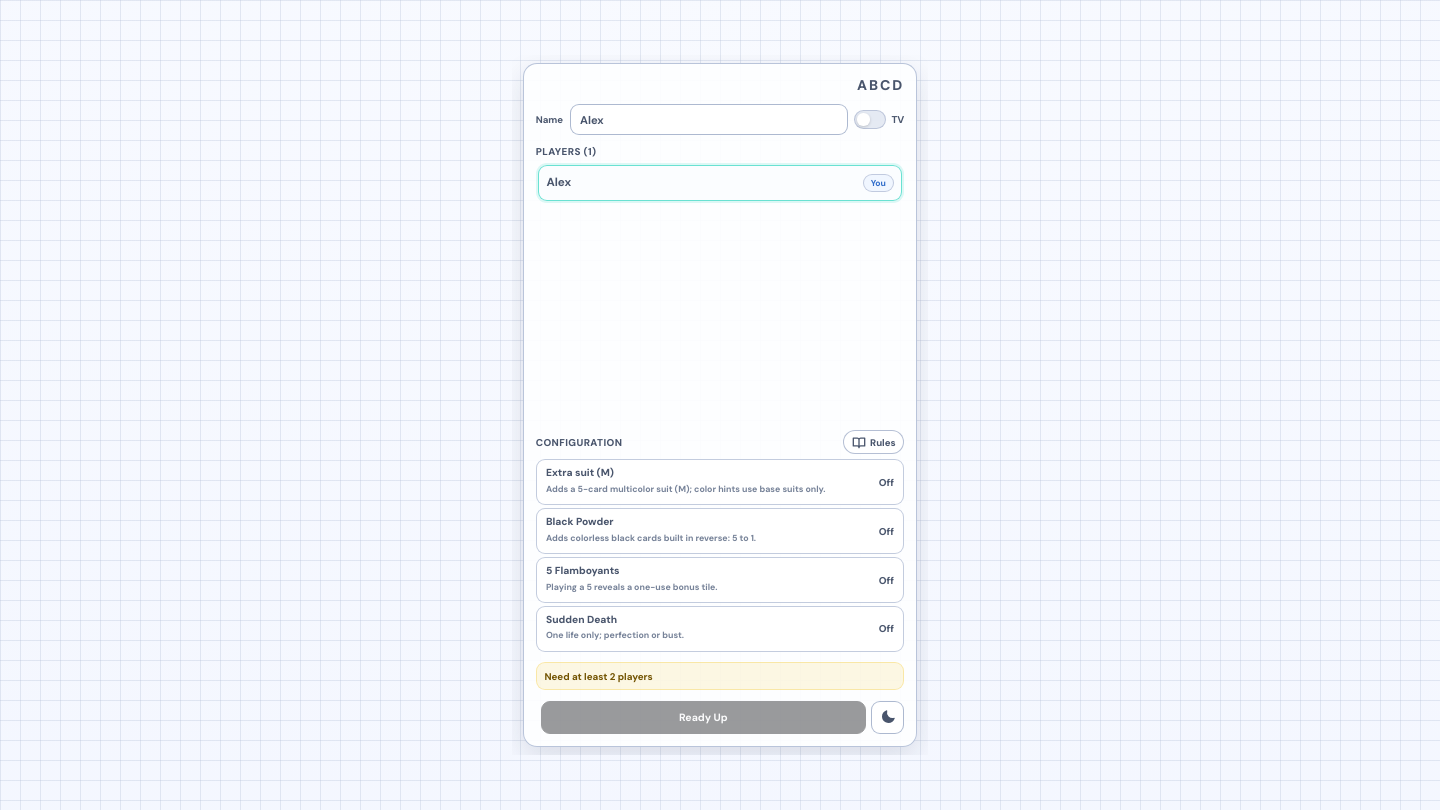
LobbyScreen › opens the rules drawer and switches expansion tabs
The width and height of the screenshot is (1440, 810).
Click the button with test id "lobby-rules" at coordinates (874, 442), box [843,430,904,454]
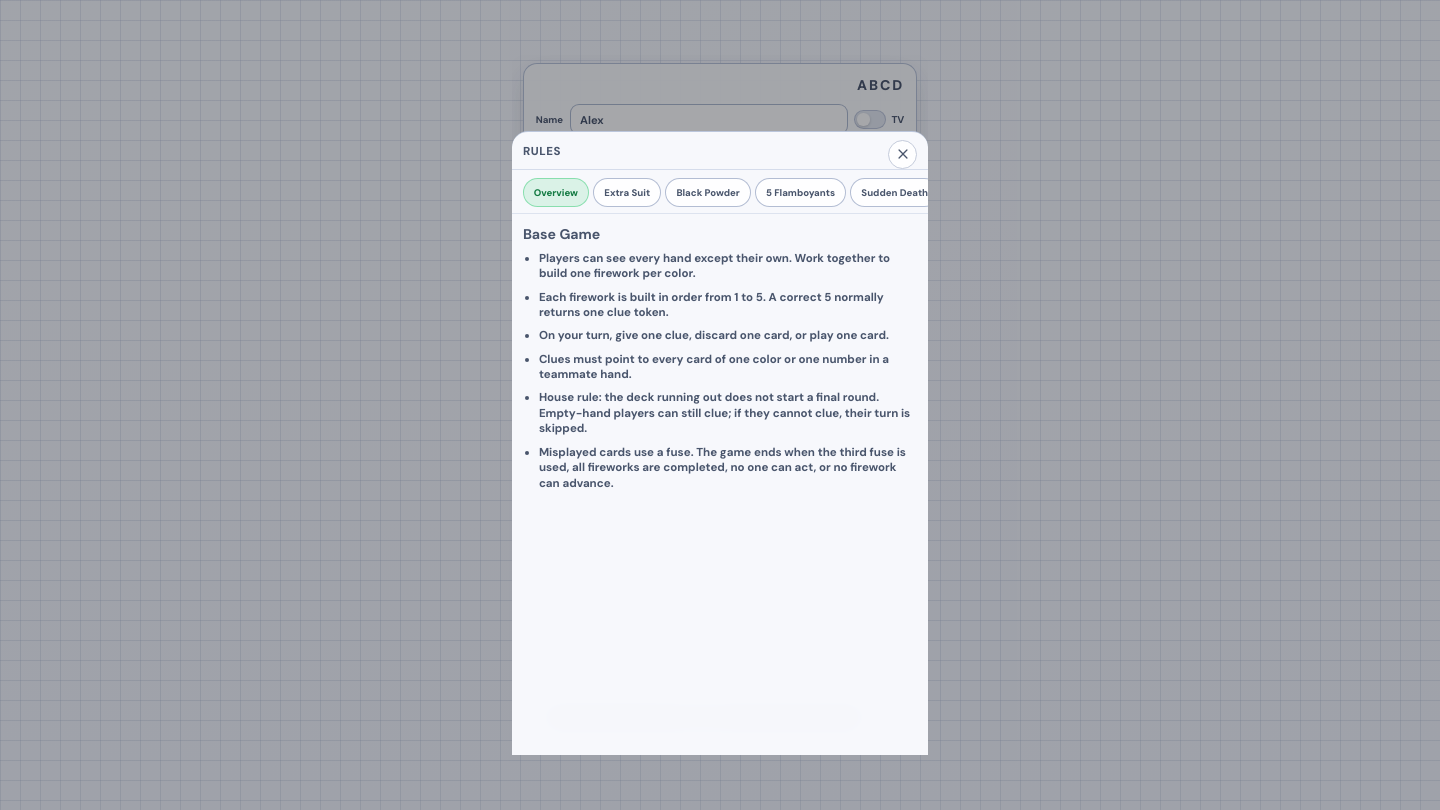
Now the dialog with test id "rules-drawer" is shown, box [512,131,928,755]
Now the element with test id "rules-content" shows "Base Game", box [523,225,600,243]
Click the tab with test id "rules-tab-black-powder" at coordinates (708, 192), box [666,178,751,207]
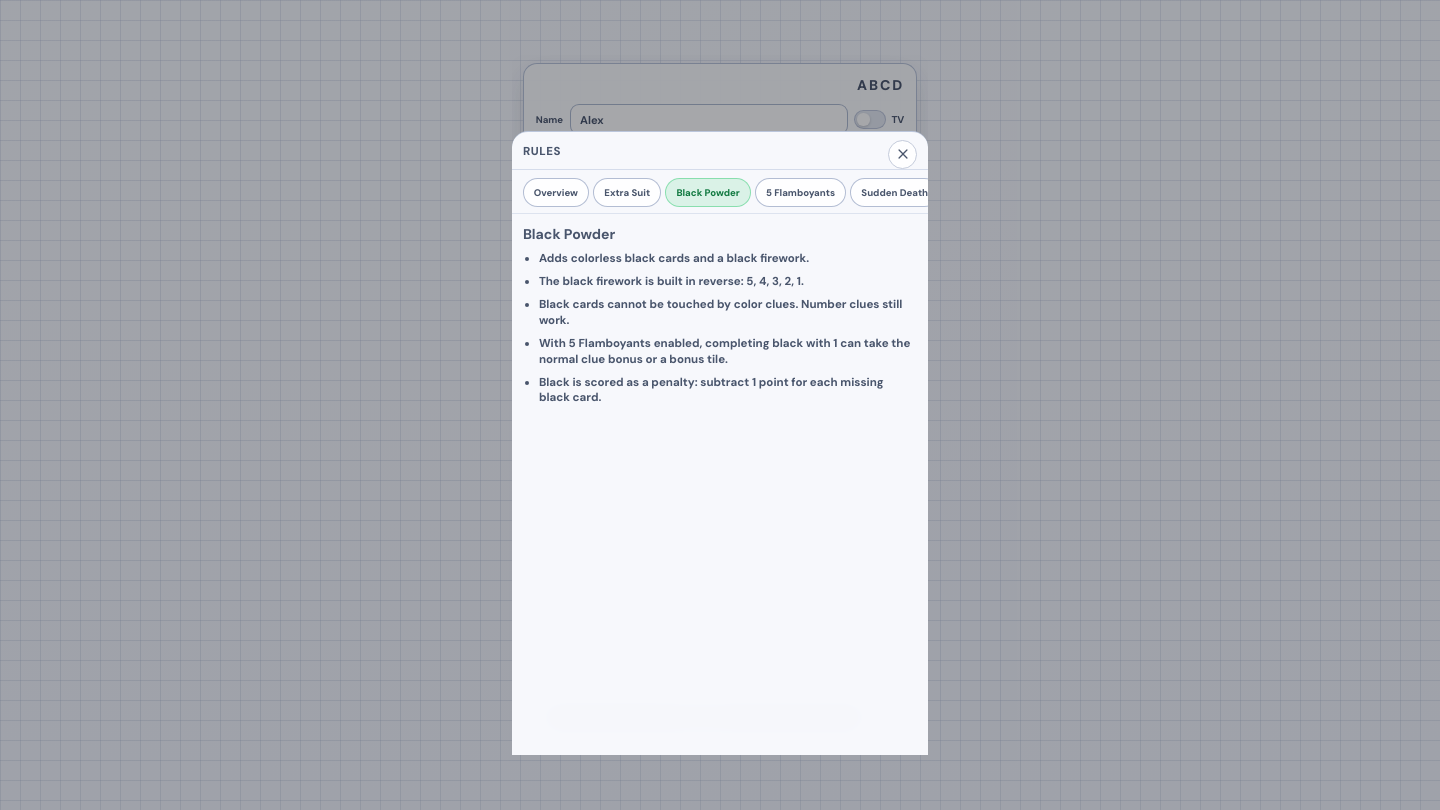
Now the element with test id "rules-content" shows "Black Powder", box [523,225,615,243]
Now the element with test id "rules-content" shows "built in reverse", box [539,274,804,289]
Click the button with test id "rules-close" at coordinates (903, 154), box [888,140,917,169]
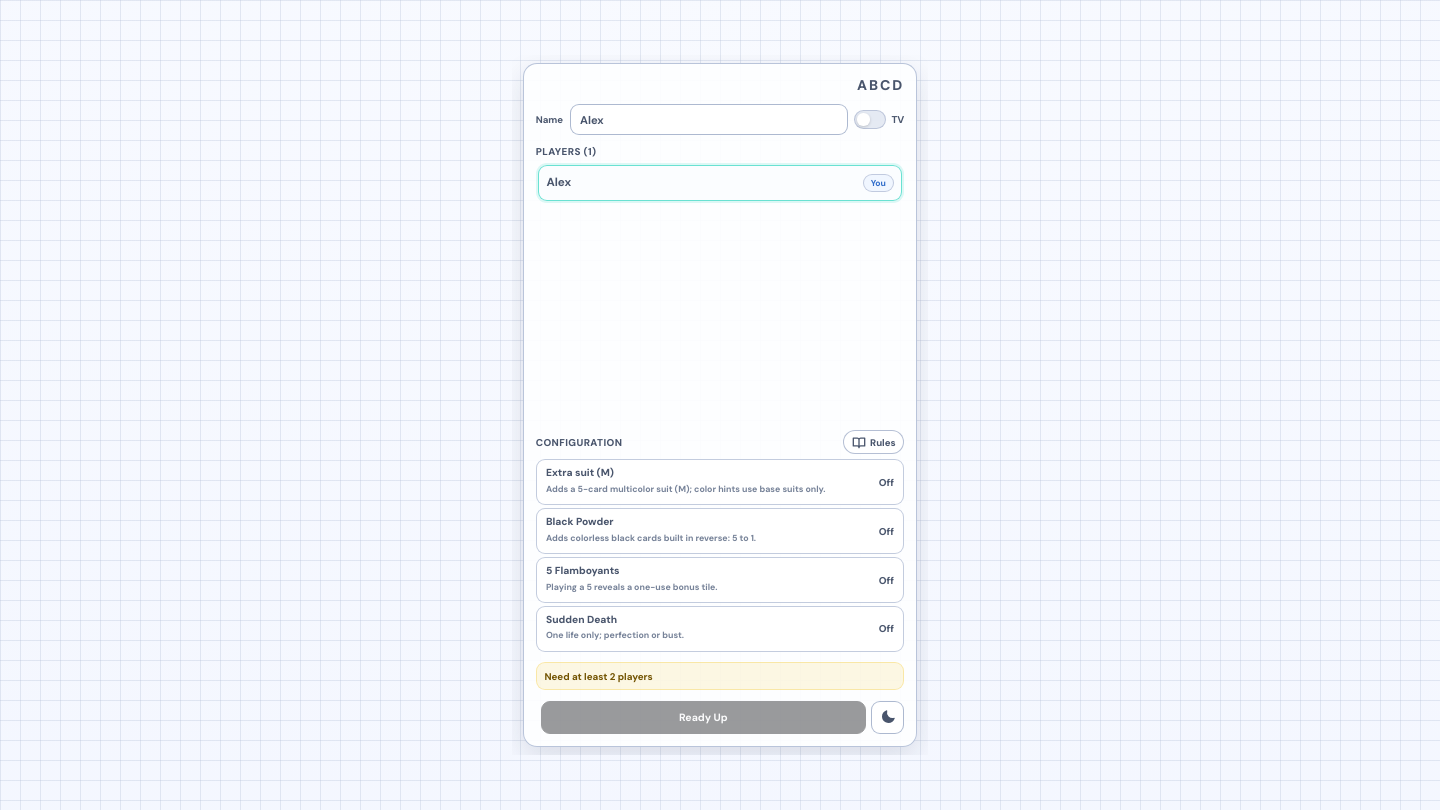
Now the dialog with test id "rules-drawer" is gone
